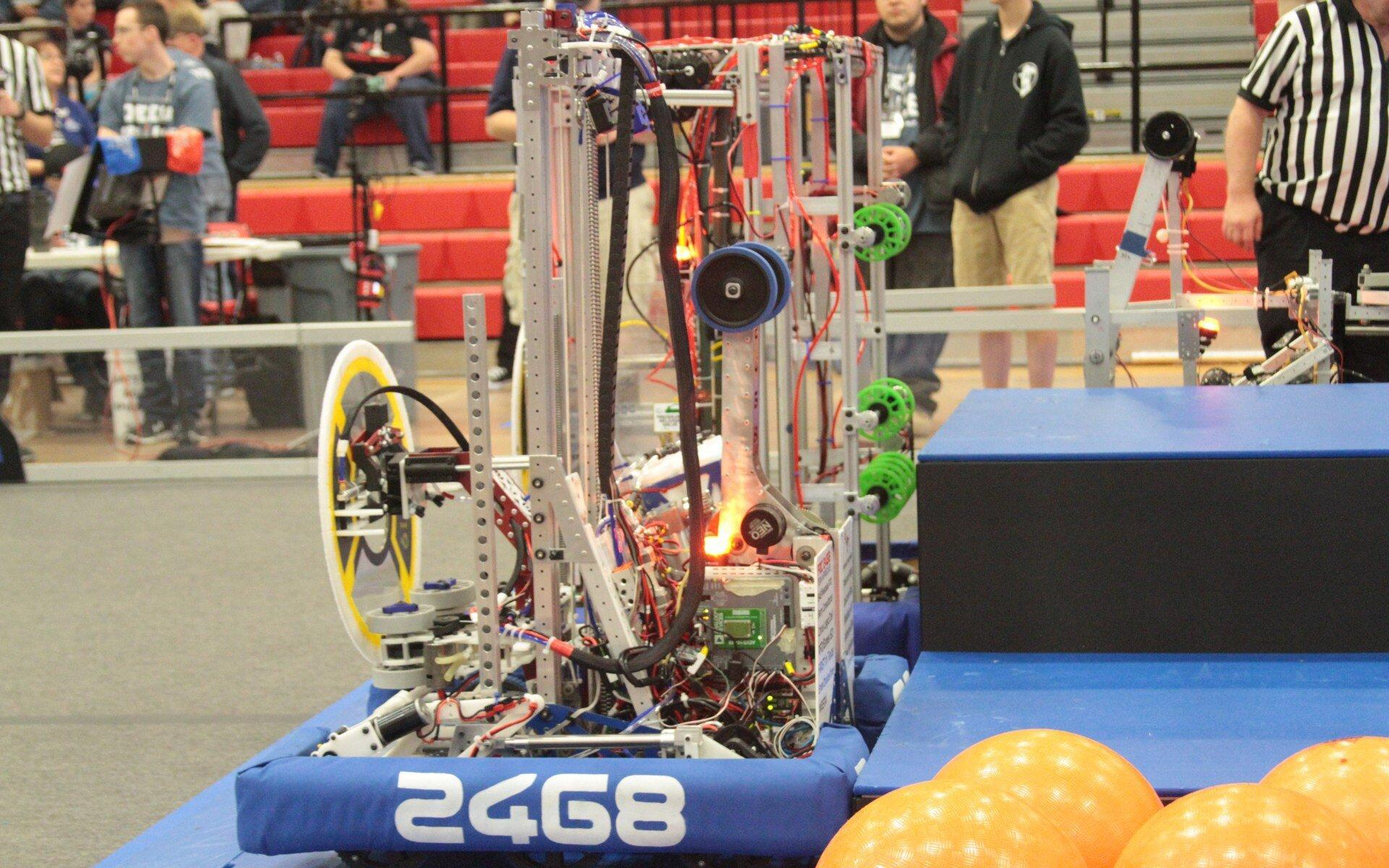robot: (237, 0, 868, 868)
